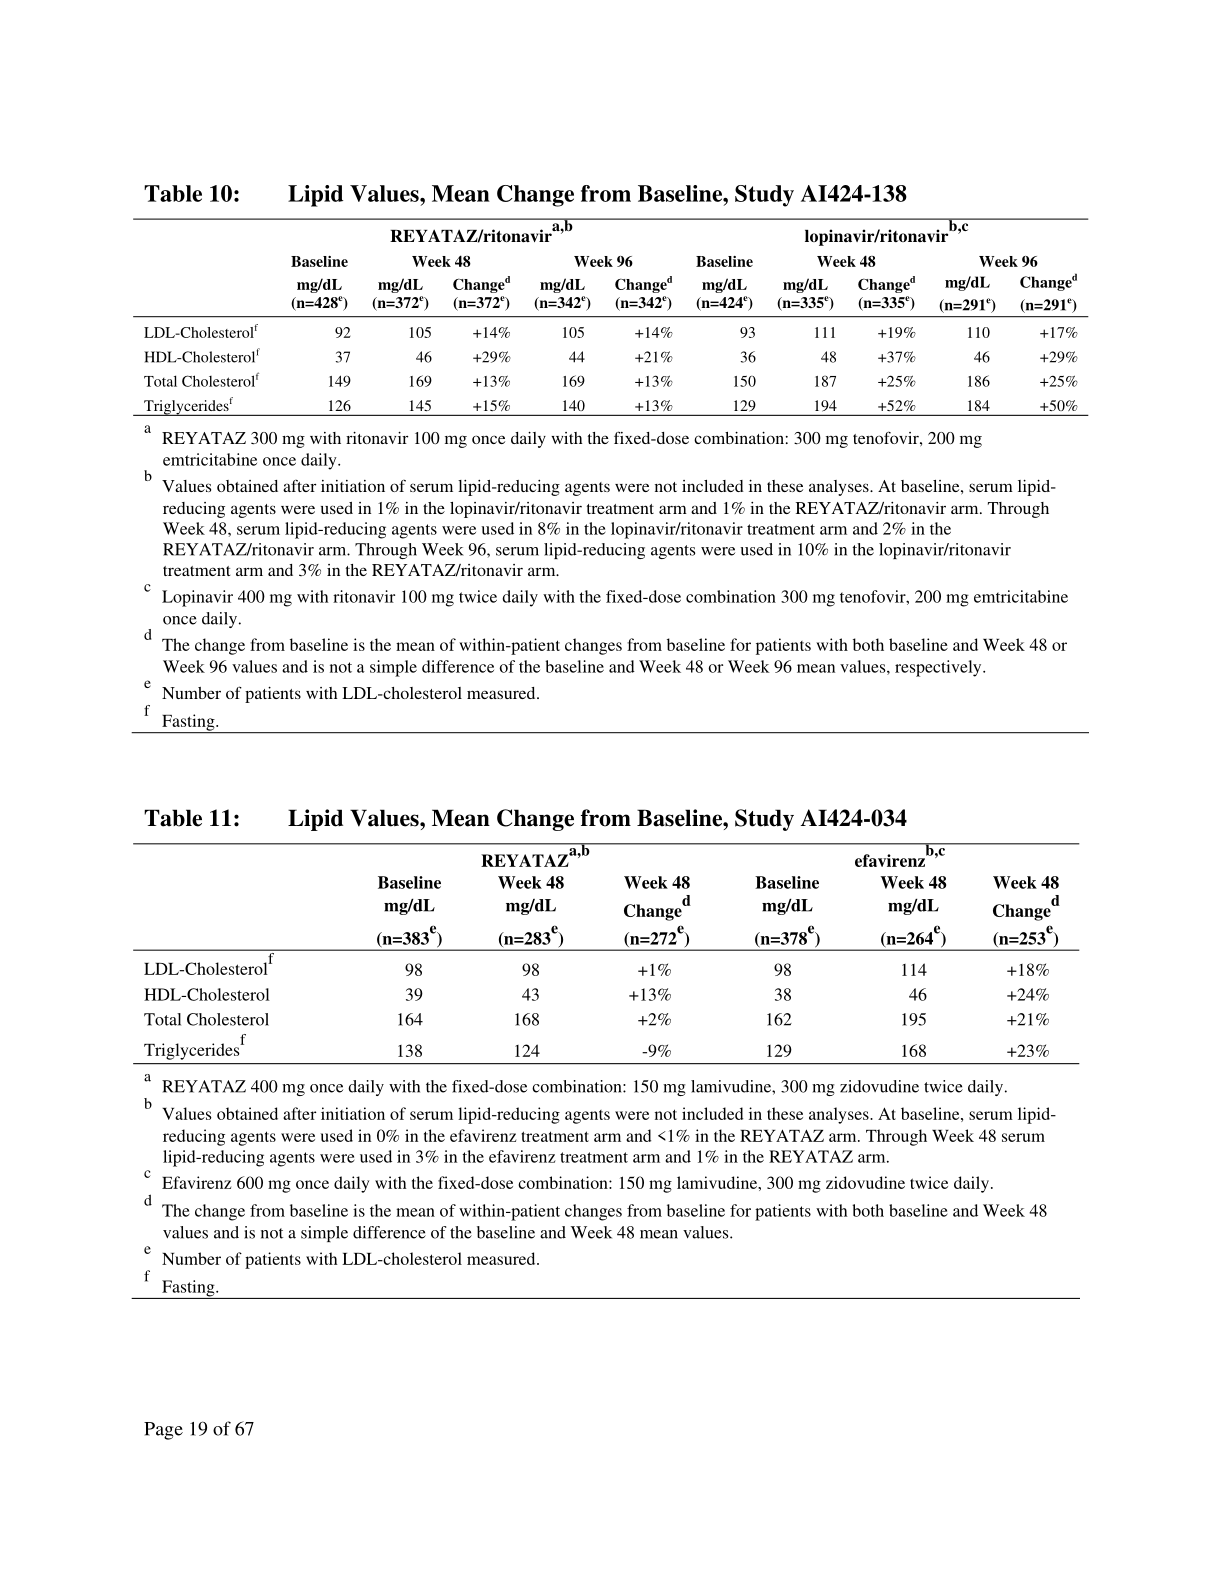partial_lined: (132, 841, 1083, 1067), (132, 216, 1088, 417)
